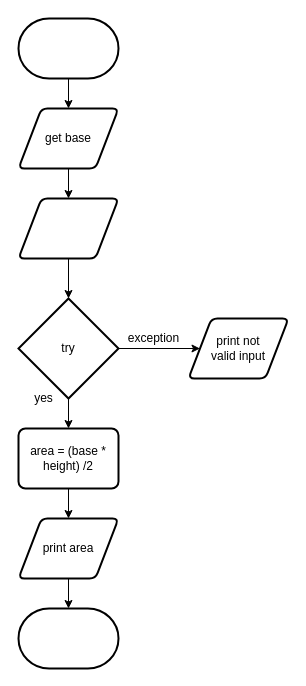
Image size: 306x686. Some labels were removed from this diagram. The centre of each missing label's shape, as x and y in pixels:
get height: the point at 68,228
start: the point at 68,48
stop: the point at 68,638
